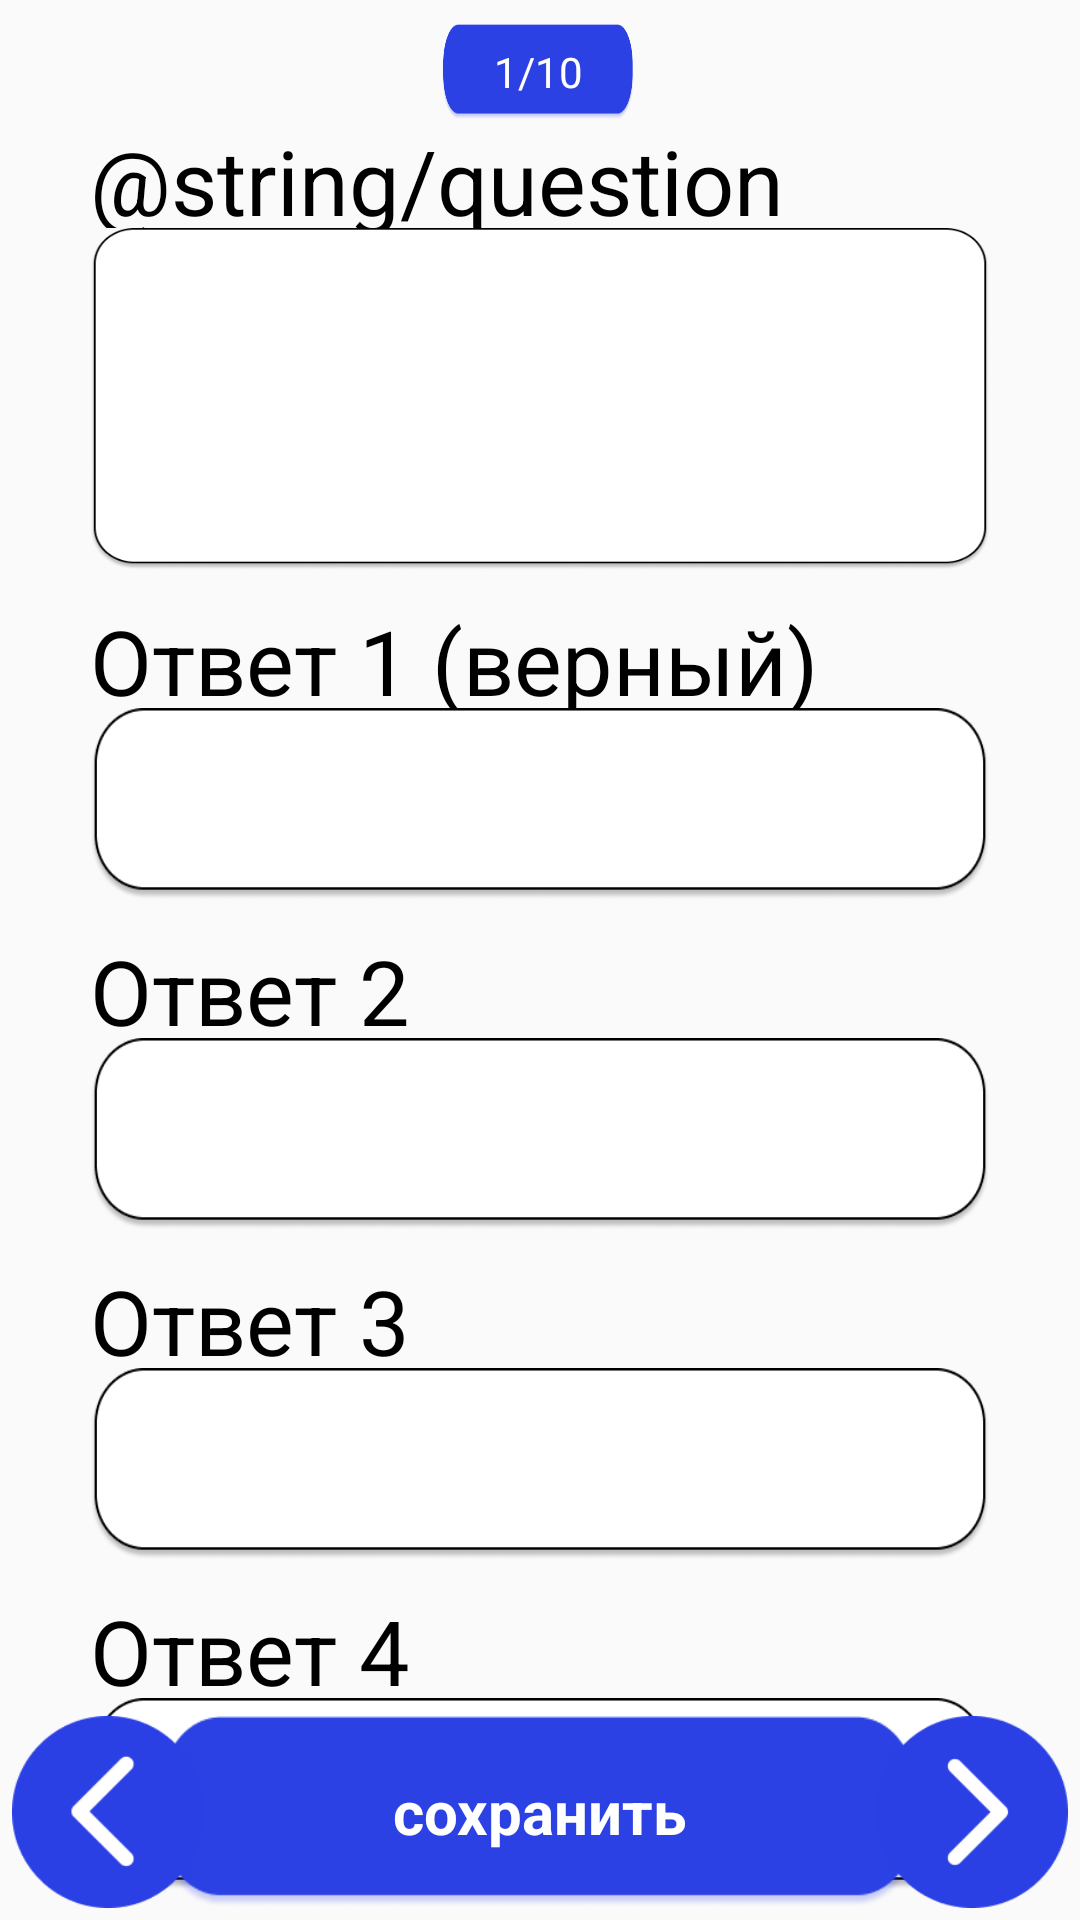

Locate icon controls on the screen. Image size 1080 x 1920, boxes as [left=x1, top=y1, right=x2, bottom=y2].
left arrow: [left=12, top=1716, right=204, bottom=1908]
right arrow: [left=876, top=1716, right=1068, bottom=1908]
